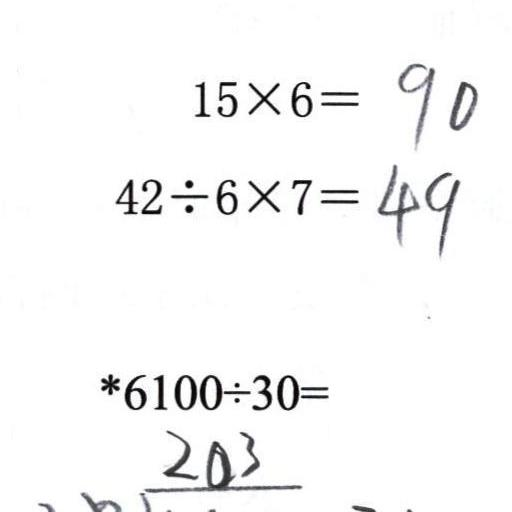ans: (373, 158, 459, 255), (392, 54, 478, 147)
